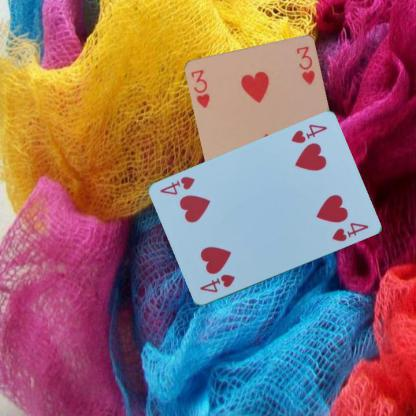3h: (188, 67, 212, 110)
4h: (288, 122, 328, 145), (197, 272, 236, 294)
